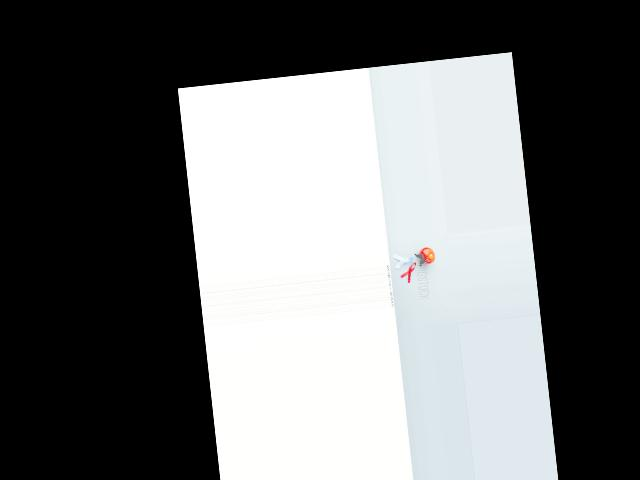tomato: (417, 246, 435, 265)
